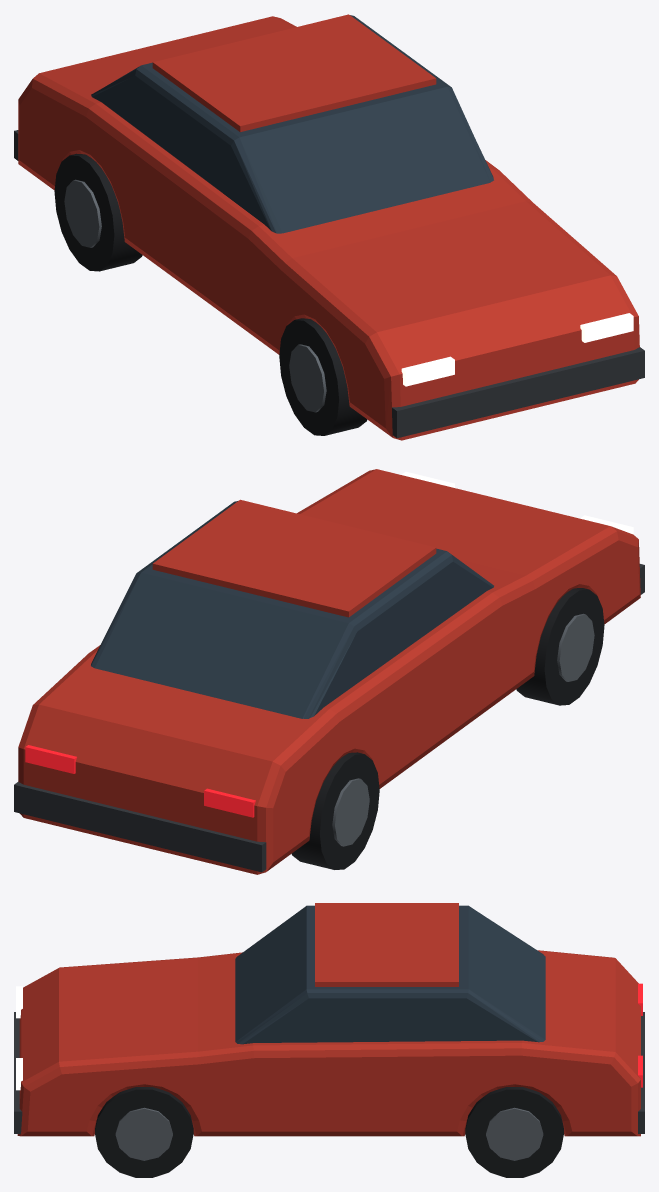
Rendered from car_sedan_01.glb.
3 views of the same model, one above another, from view 1: azimuth 30°, elevation 25°; view 2: azimuth 150°, elevation 25°; view 3: azimuth 270°, elevation 25° (orthographic). The views are drawn at different scales.
Parts seen in each view (by area): view 1: car_sedan_01_paint, car_sedan_01_glass, car_sedan_01_metal (×2), car_sedan_01_rubber, car_sedan_01_light; view 2: car_sedan_01_paint, car_sedan_01_glass, car_sedan_01_metal (×2), car_sedan_01_rubber, car_sedan_01_taillight, car_sedan_01_light; view 3: car_sedan_01_paint, car_sedan_01_glass, car_sedan_01_rubber, car_sedan_01_metal (×2), car_sedan_01_light.
Boxes of the visible parts, x1,y1,x2,y2 form: car_sedan_01_paint: (18, 14, 639, 440); car_sedan_01_glass: (91, 15, 493, 233); car_sedan_01_metal (×2): (14, 130, 644, 438); car_sedan_01_rubber: (54, 153, 367, 435); car_sedan_01_light: (401, 313, 633, 386); car_sedan_01_paint: (18, 469, 640, 874); car_sedan_01_glass: (91, 501, 493, 718); car_sedan_01_metal (×2): (14, 564, 644, 872); car_sedan_01_rubber: (291, 588, 604, 869); car_sedan_01_taillight: (25, 745, 255, 817); car_sedan_01_light: (402, 471, 633, 534); car_sedan_01_paint: (17, 903, 640, 1136); car_sedan_01_glass: (235, 905, 545, 1044); car_sedan_01_rubber: (95, 1087, 563, 1177); car_sedan_01_metal (×2): (14, 1012, 644, 1160); car_sedan_01_light: (16, 986, 22, 1090).
Size of the model in its own units: 1.88 by 1.46 by 4.6.
